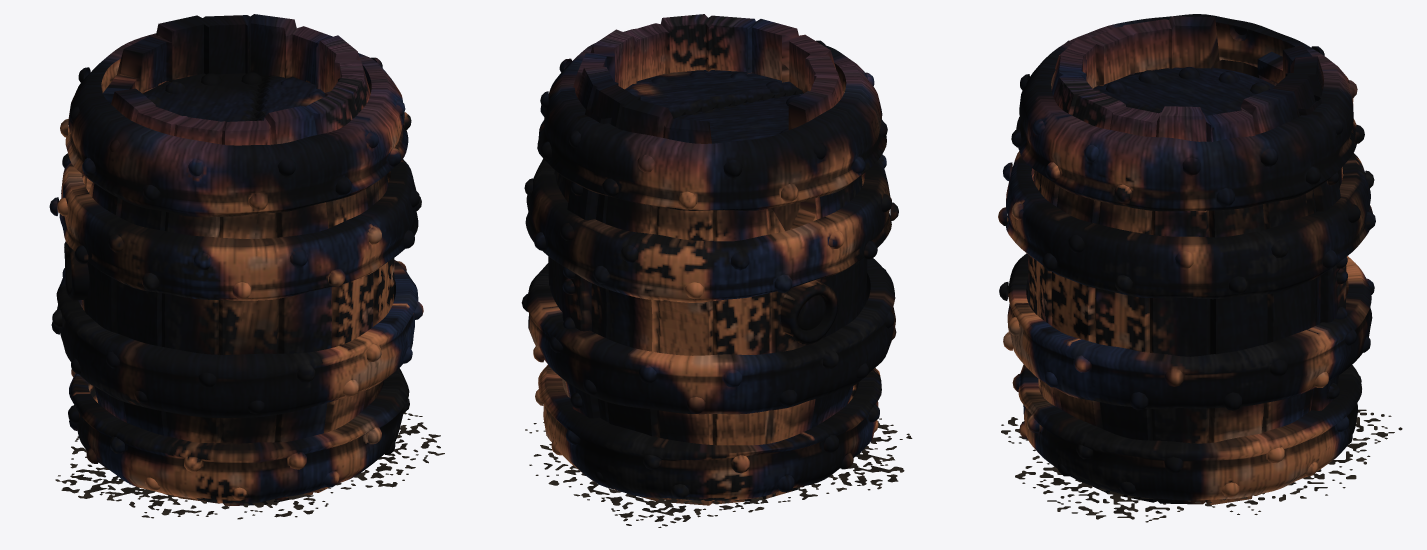
The model's file is rust_barrel.glb.
3 renders of one model, left to right at view 1: azimuth 30°, elevation 25°; view 2: azimuth 150°, elevation 25°; view 3: azimuth 270°, elevation 25°, orthographic.
Visible parts, largest first — view 1: rust_barrel; view 2: rust_barrel; view 3: rust_barrel.
Part boxes in pixels (box(x1,y1,x2,y2)): rust_barrel: box(49, 14, 444, 519); rust_barrel: box(521, 14, 912, 527); rust_barrel: box(998, 14, 1402, 522).
Bounding box in the file's own units: 0.819 × 0.7798 × 0.819.
Materials: 2 (2 with a texture image).
